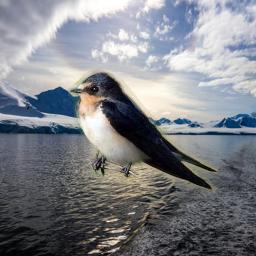Swallow: (68, 69, 218, 195)
